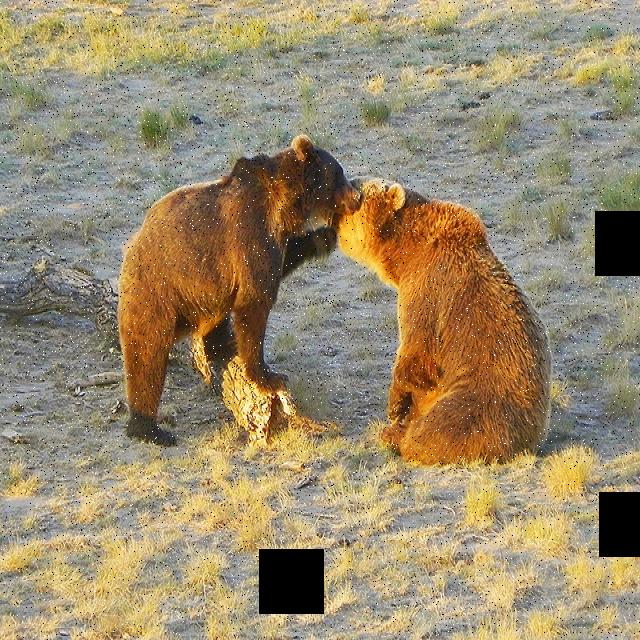Bear: (110, 126, 375, 468), (321, 160, 556, 462)
